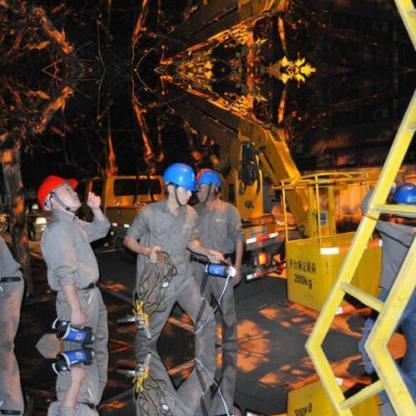Helmet: (37, 172, 81, 212), (161, 158, 195, 204), (193, 167, 221, 203), (391, 178, 413, 218)
